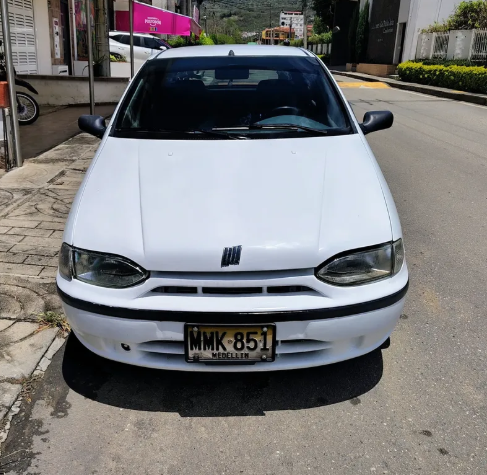placa: (184, 323, 278, 367)
